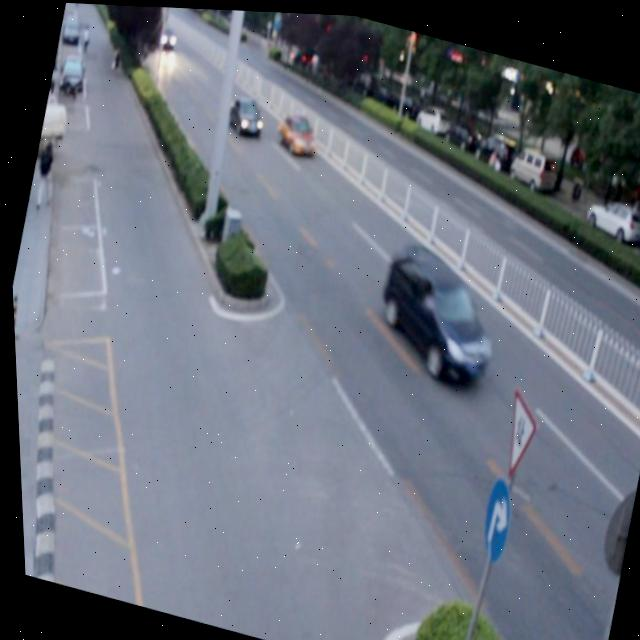car: (273, 106, 321, 156), (221, 88, 268, 139)
truck: (363, 228, 511, 388)
